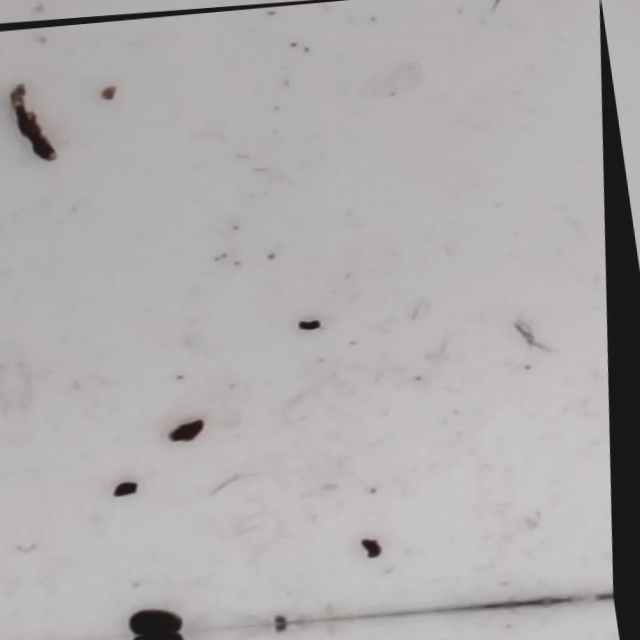varroa: (129, 605, 195, 635)
